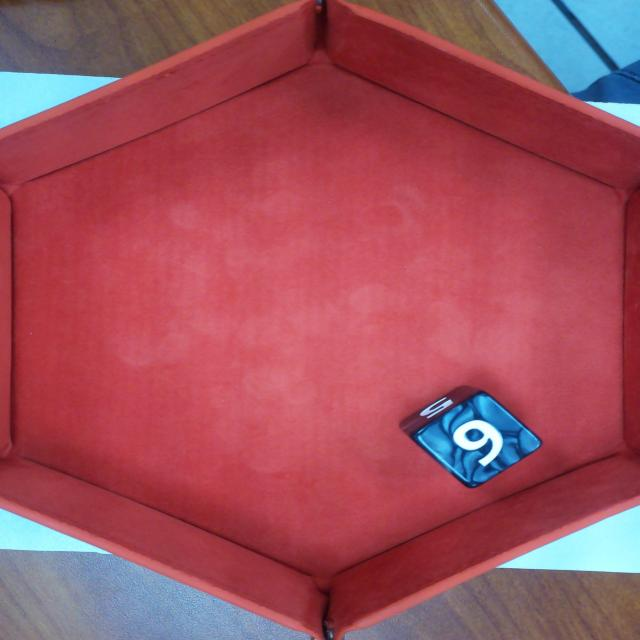dice: (425, 399, 535, 476)
